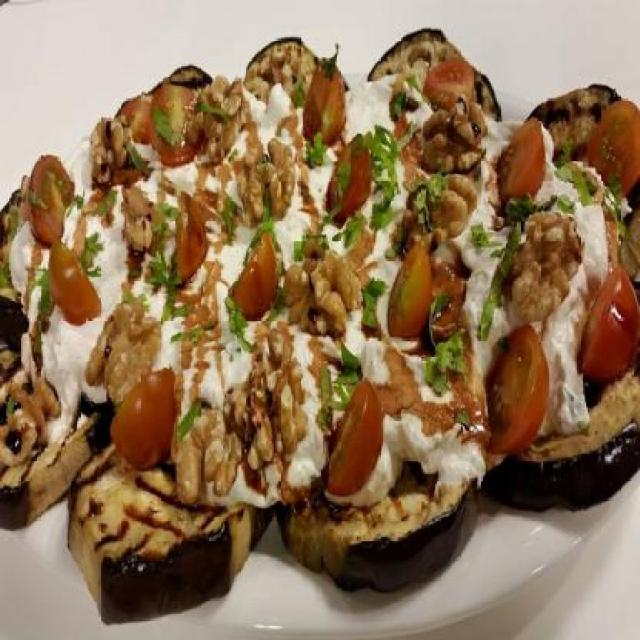hummus: (21, 69, 624, 512)
